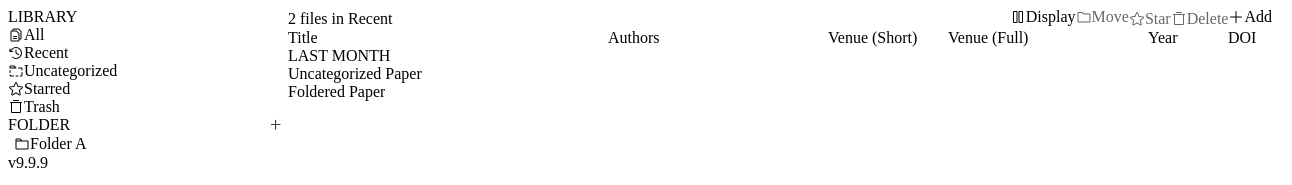
Test case: Folder filter + move (Story 7.2) › Uncategorized shows only papers with no folder
The width and height of the screenshot is (1292, 185).
Expected: the text "Uncategorized Paper" is shown, [288,65,422,83]
Step 1. Click the button "Uncategorized" → (71, 70), box [8,62,288,80]
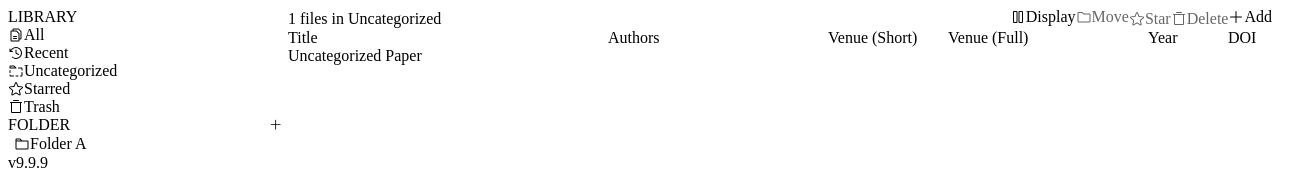
Expected: the text "Uncategorized Paper" is shown, [288,47,422,65]
Result: the text "Foldered Paper" is gone
